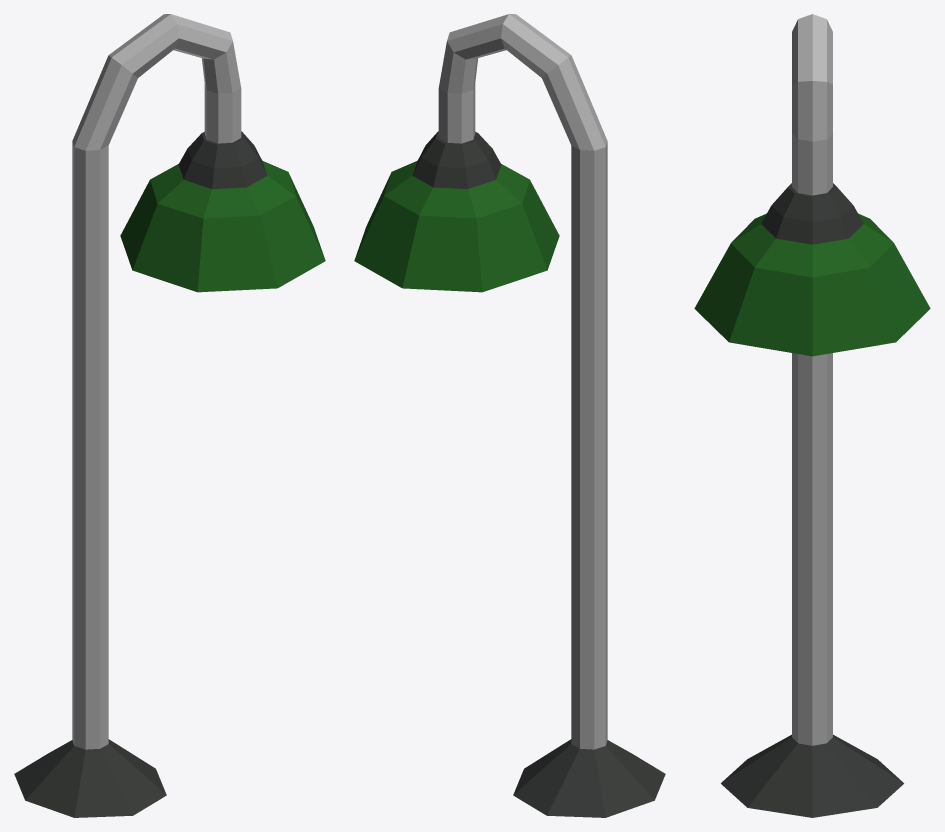
Rendered from Tall Light.fbx.
The picture shows the model from 3 angles, left to right: view 1: azimuth 30°, elevation 25°; view 2: azimuth 150°, elevation 25°; view 3: azimuth 270°, elevation 25°; orthographic projection. The views are drawn at different scales.
Visible parts, largest first — view 1: Tall Light; view 2: Tall Light; view 3: Tall Light.
Boxes of the visible parts, x1,y1,x2,y2 form: Tall Light: (14, 14, 325, 817); Tall Light: (354, 14, 665, 817); Tall Light: (694, 14, 930, 817).
Bounding box in the file's own units: 2647 × 6586 × 1737.
